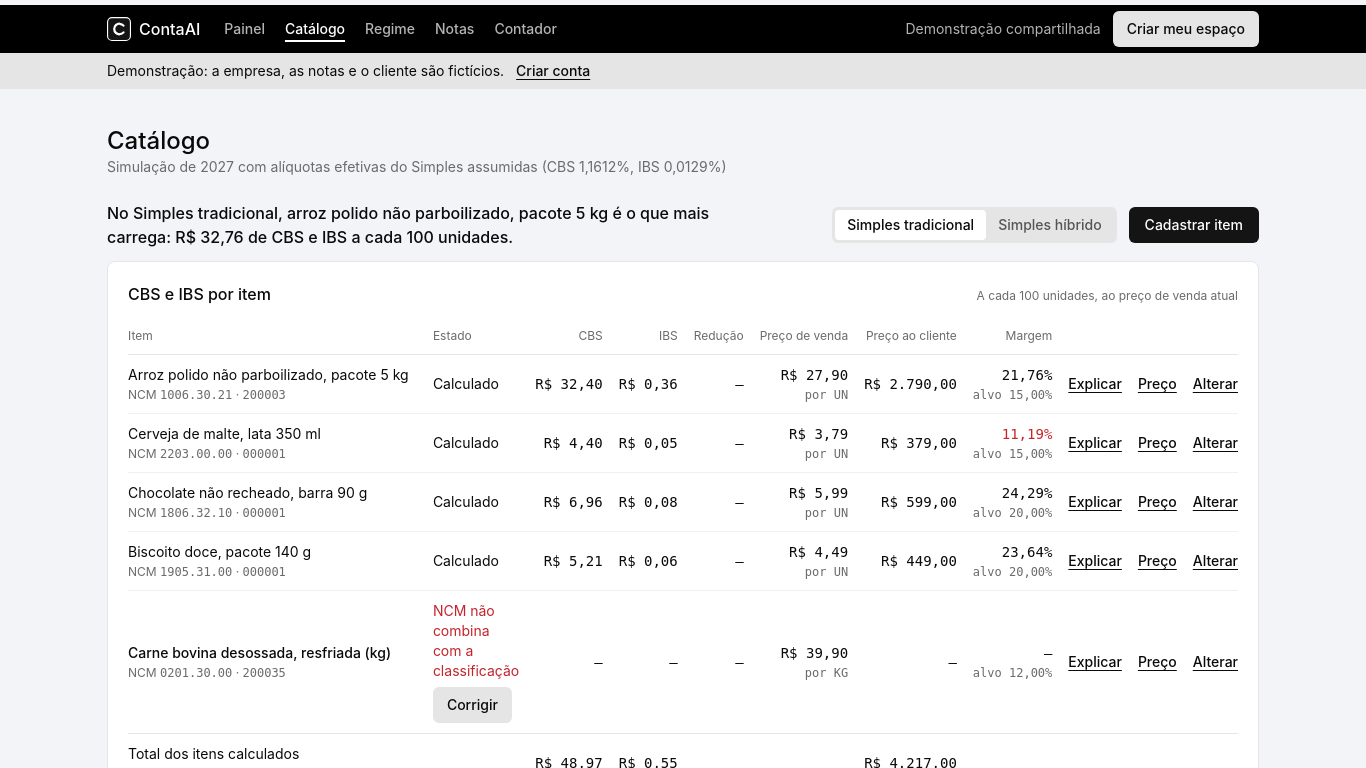
Test: alterar e arquivar o item › os campos vêm com os valores do item, o fornecedor incluso; sem mudança, nada é enviado
The width and height of the screenshot is (1366, 768).
(page scrolled)
Click the button "Alterar" in the row of "1006.30.21".
click(1215, 384)  # box [1193,374,1238,394]
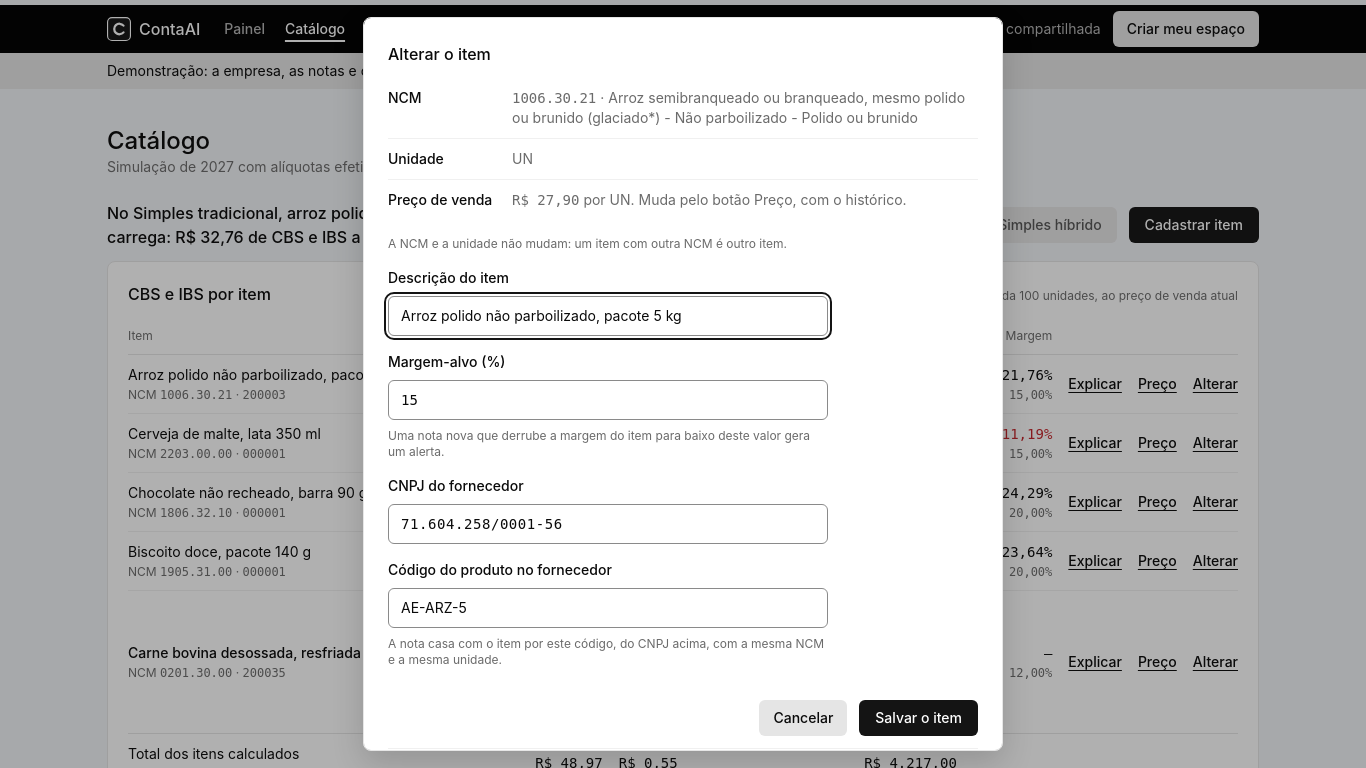
Now the field labelled "CNPJ do fornecedor" holds "71.604.258/0001-56", box [388,504,828,544]
Now the field labelled "Código do produto no fornecedor" holds "AE-ARZ-5", box [388,588,828,628]
Now the text "A NCM e a unidade não mudam" is shown, box [388,236,787,251]
Click the button "Salvar o item".
click(919, 718)  # box [859,700,978,736]
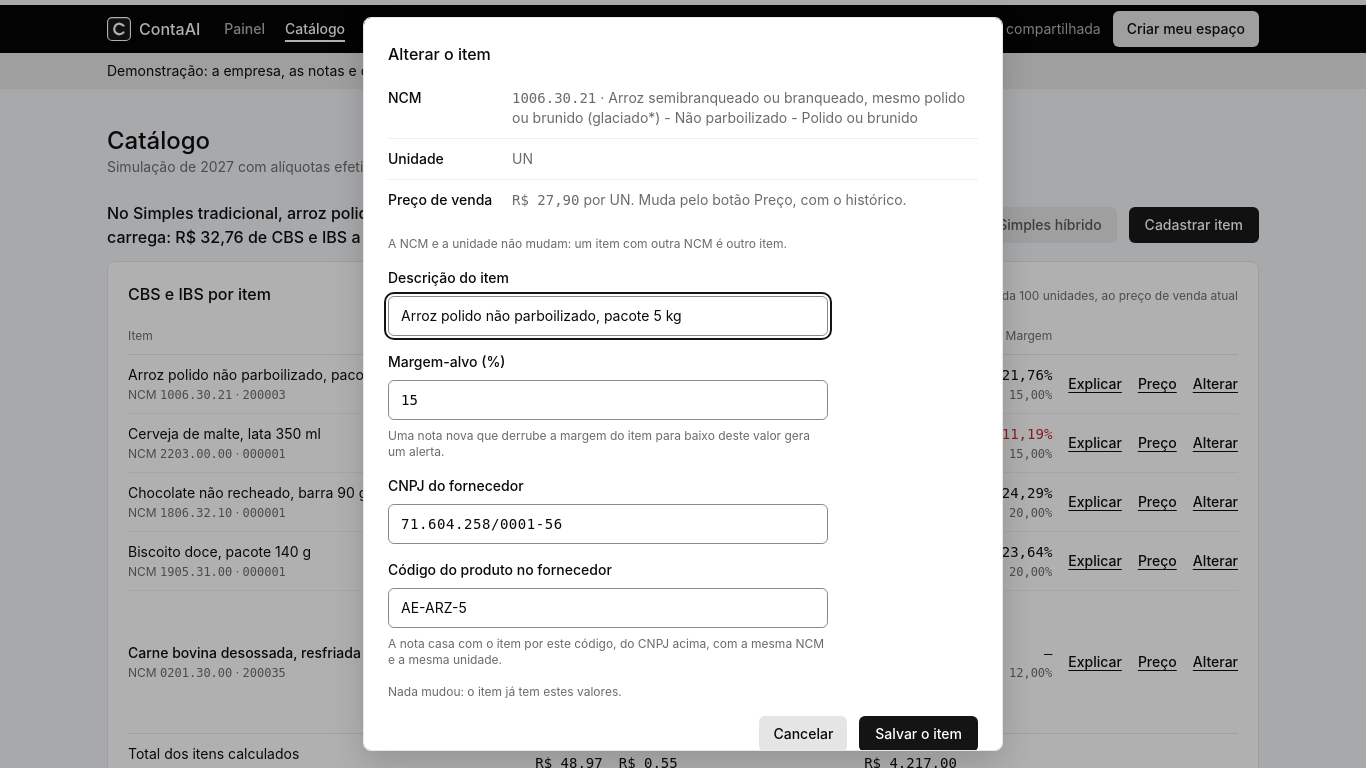
Now the text "Nada mudou: o item já tem estes valores." is shown, box [388,684,622,699]
